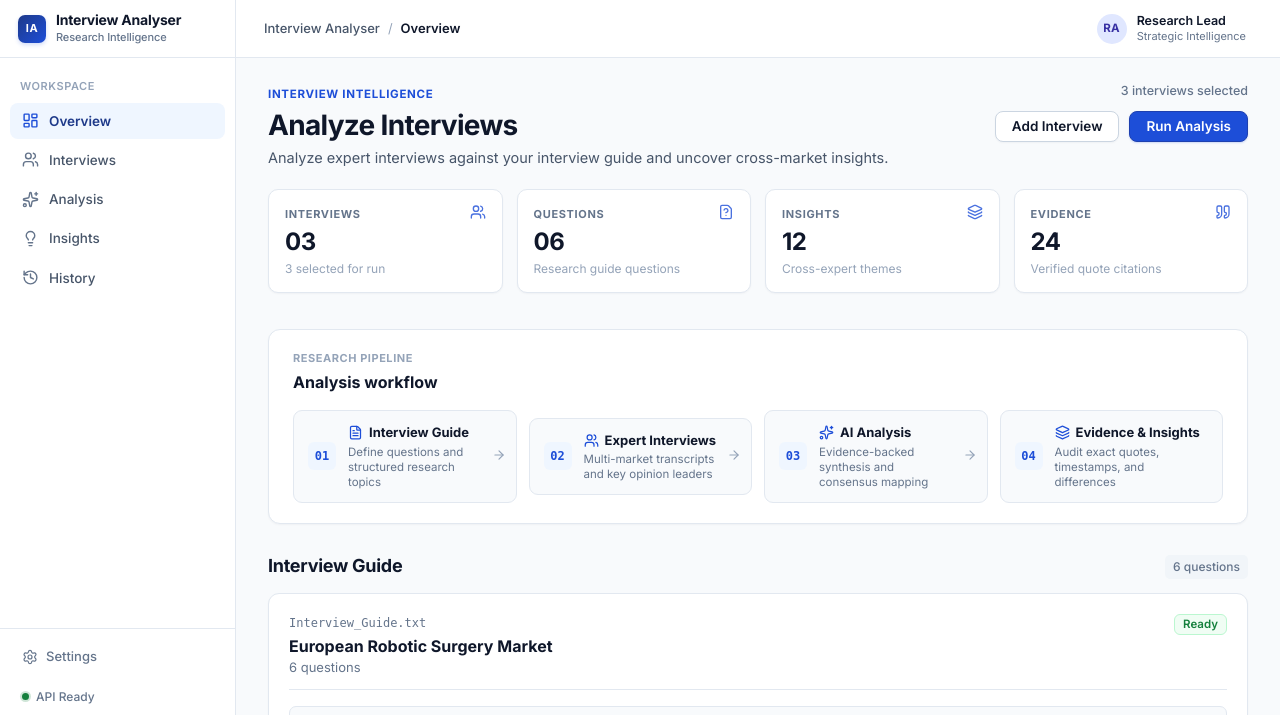
Test: Interview Analyzer › renders a successful analysis
Click the button "Run Analysis" at (1189, 127), box [1130,111,1248,142]
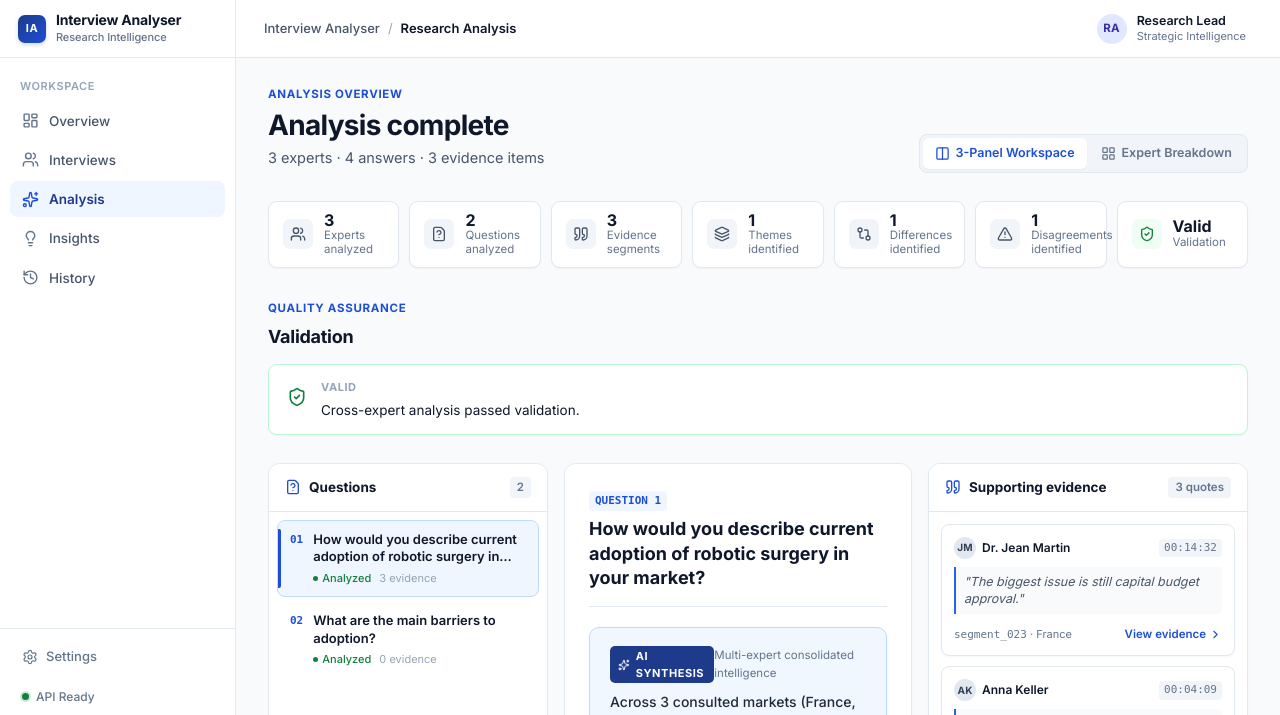
expect the heading "Analysis complete" is shown: met, box [268,109,544,143]
expect the text "3 experts · 4 answers · 3 evidence items" is shown: met, box [268,147,544,169]
expect the text "Experts analyzed" is shown: met, box [324,228,373,256]
